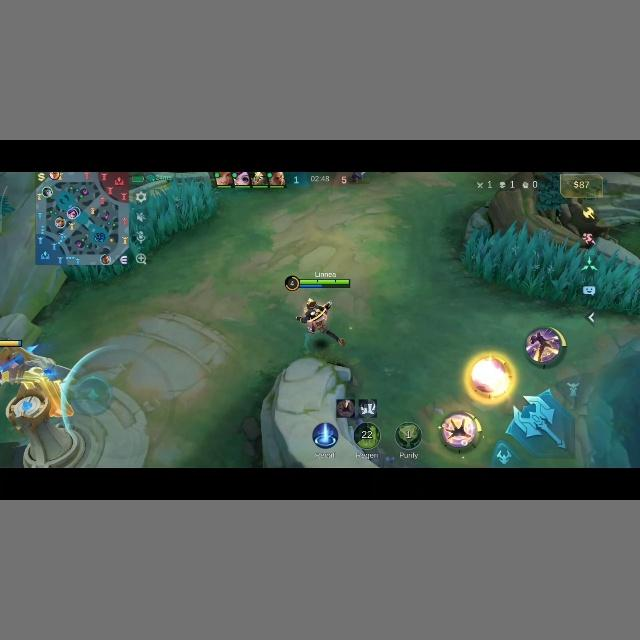hp_self: (283, 275, 354, 290)
turret_ally: (0, 345, 72, 431)
